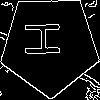H: (24, 20, 69, 58)
